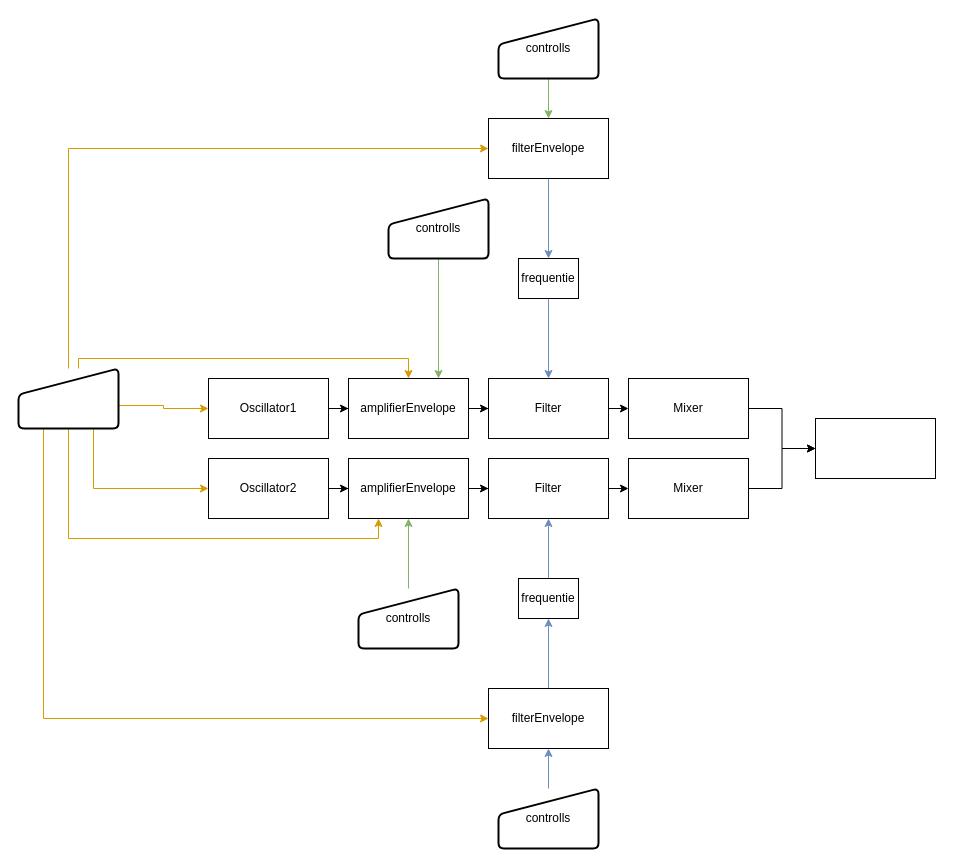
Image size: 953x866. Some labels were removed from this diagram. Each missing label, with the centre of its shape:
"midi" belongs at (x=68, y=398).
"output" belongs at (x=875, y=448).
